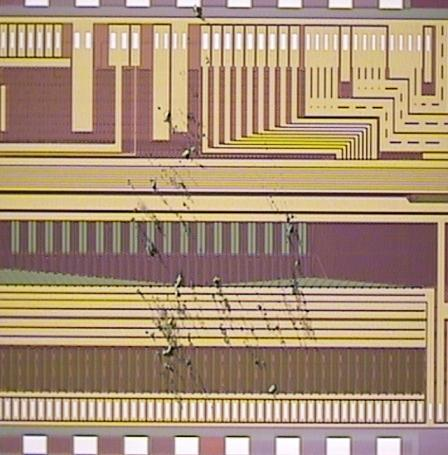SCRATCH: (122, 101, 322, 413)
